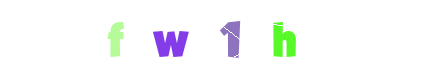1: (175, 0, 255, 80)
F: (110, 0, 190, 80)
H: (243, 0, 323, 80)
W: (155, 0, 235, 80)
